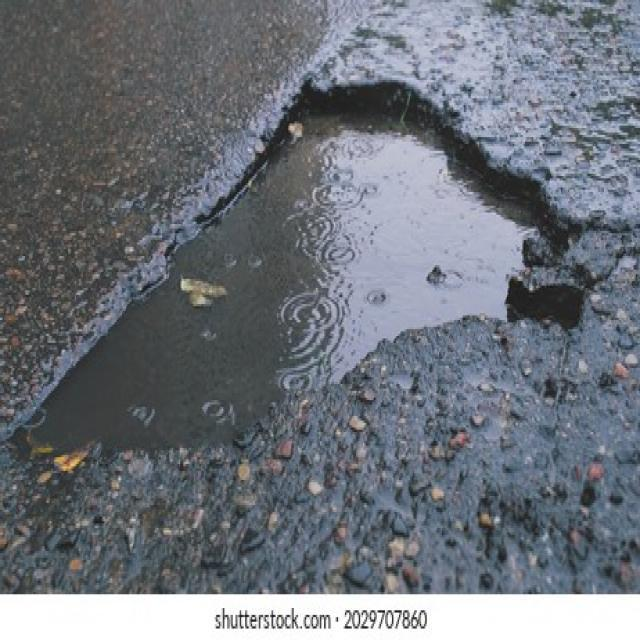Pothole: (4, 78, 582, 458)
